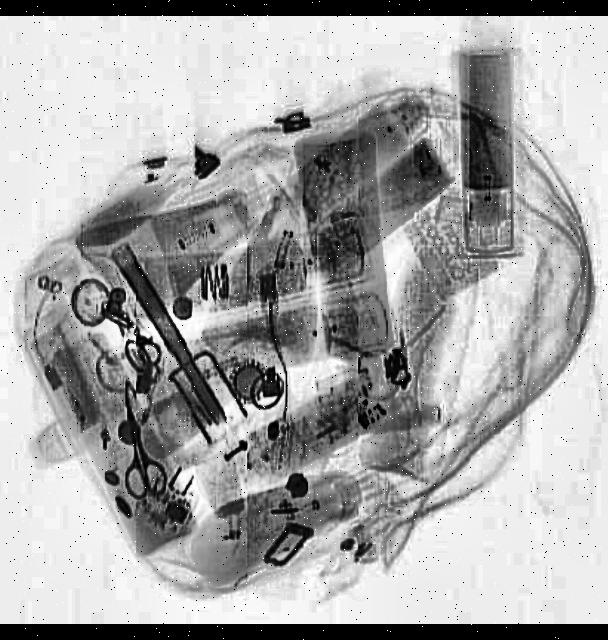Scissors: (110, 408, 172, 507)
